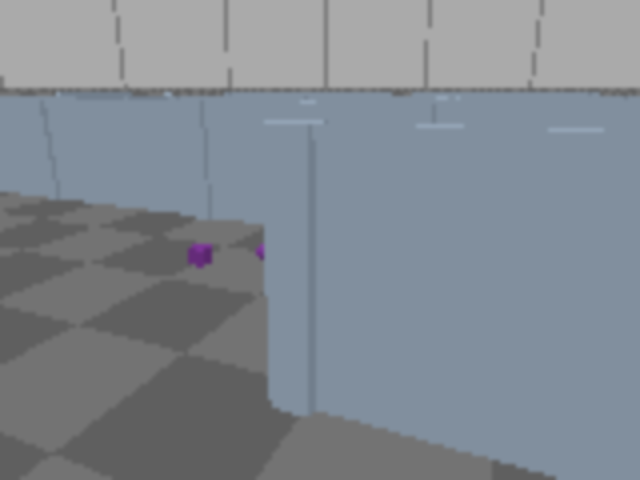puck: (187, 244, 213, 267)
